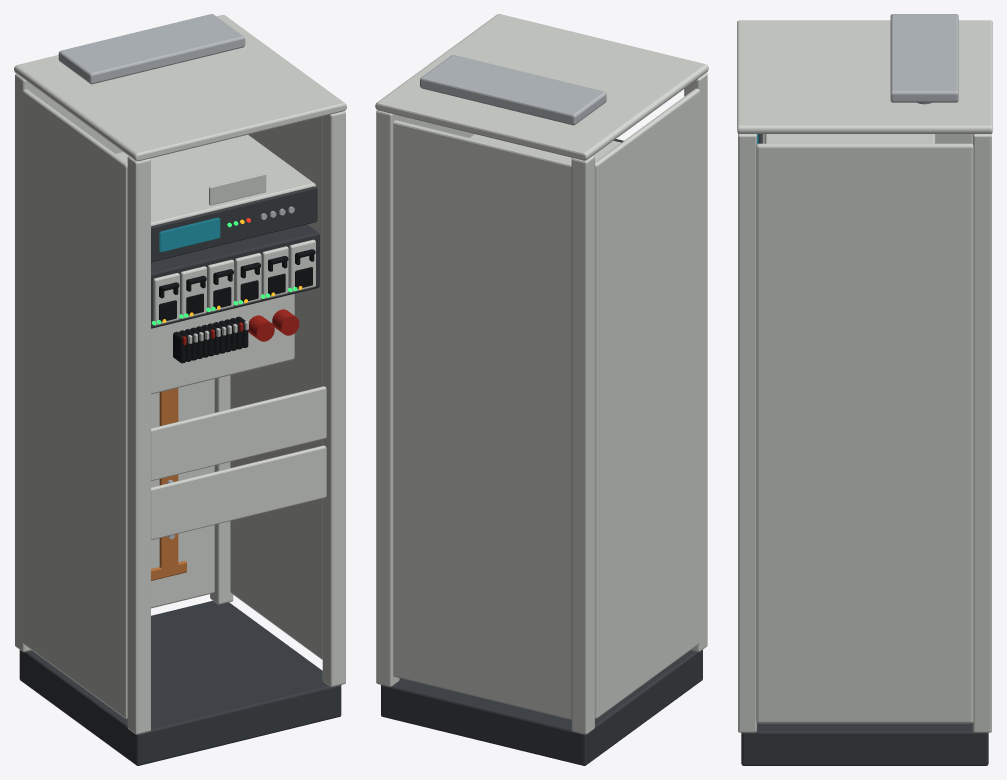
Rendered from rectifier.glb.
The picture shows the model from 3 angles, left to right: view 1: azimuth 30°, elevation 25°; view 2: azimuth 150°, elevation 25°; view 3: azimuth 270°, elevation 25°; orthographic projection. The views are drawn at different scales.
Visible parts, largest first — view 1: side_panel_left, base_plinth, top_cover, side_panel_right, frame_post_lf, frame_post_rf, blanking_panel_0, blanking_panel_1, controller_body, cable_tray, distribution_panel, rear_panel (+8 smaller); view 2: rear_panel, side_panel_left, top_cover, frame_post_lb, base_plinth, frame_post_rb, cable_tray, frame_post_lf, controller_body; view 3: side_panel_right, top_cover, frame_post_rb, frame_post_rf, base_plinth, cable_tray, controller_body.
Boxes of the visible parts, x1,y1,x2,y2 form: side_panel_left: (22, 89, 127, 718); base_plinth: (19, 600, 341, 765); top_cover: (14, 15, 346, 161); side_panel_right: (230, 116, 322, 659); frame_post_lf: (127, 156, 150, 734); frame_post_rf: (322, 111, 345, 686); blanking_panel_0: (151, 445, 326, 539); blanking_panel_1: (151, 386, 326, 480); controller_body: (115, 134, 315, 226); cable_tray: (58, 14, 245, 84); distribution_panel: (151, 294, 294, 394); rear_panel: (38, 90, 214, 608); rear_panel: (393, 120, 571, 719); side_panel_left: (595, 88, 699, 718); top_cover: (375, 14, 708, 160); frame_post_lb: (571, 155, 594, 734); base_plinth: (381, 650, 702, 765); frame_post_rb: (376, 110, 399, 686); cable_tray: (420, 55, 606, 125); frame_post_lf: (684, 73, 707, 651); controller_body: (469, 134, 621, 162); side_panel_right: (756, 143, 973, 723); top_cover: (737, 20, 992, 133); frame_post_rb: (973, 133, 991, 732); frame_post_rf: (738, 133, 756, 732); base_plinth: (741, 723, 988, 765); cable_tray: (890, 14, 958, 102); controller_body: (765, 134, 935, 143).
Size of the model in its own units: 0.604 by 1.72 by 0.6.
